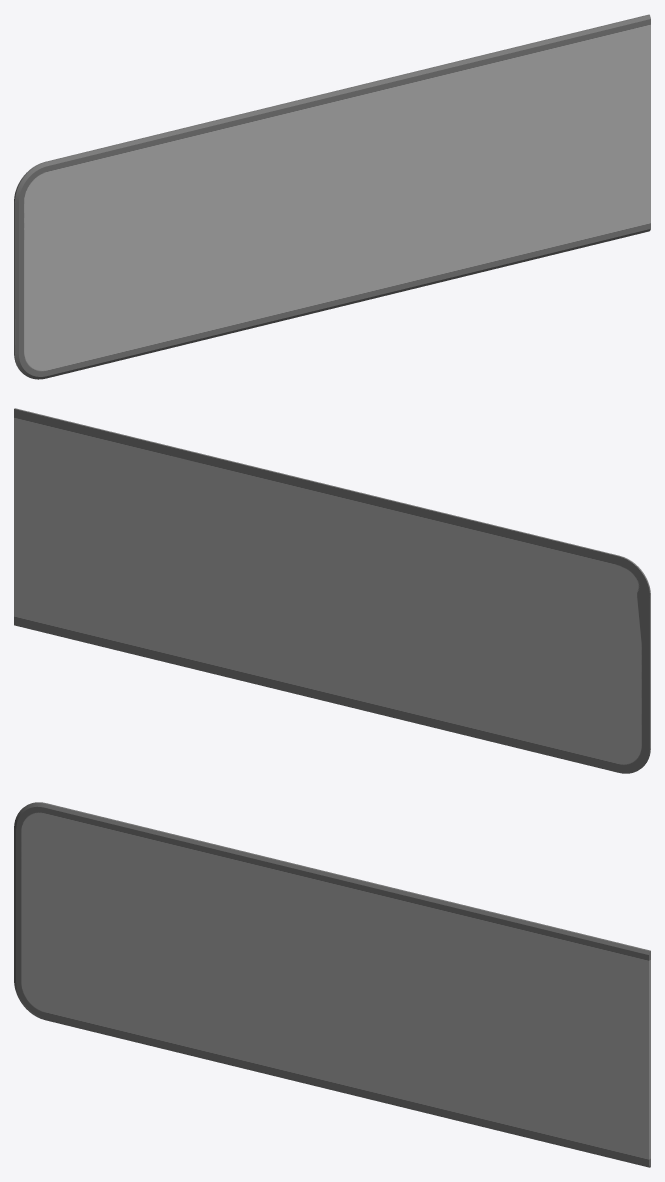
File: mesh_SB_left_endcap_long.fbx
3 renders of one model, top to bottom at view 1: azimuth 30°, elevation 25°; view 2: azimuth 150°, elevation 25°; view 3: azimuth 330°, elevation 25°, orthographic.
Parts seen in each view (by area): view 1: mesh_SB_left_endcap_long; view 2: mesh_SB_left_endcap_long; view 3: mesh_SB_left_endcap_long.
Boxes of the visible parts, left/top/right/bottom form: mesh_SB_left_endcap_long: left=14, top=14, right=650, bottom=379; mesh_SB_left_endcap_long: left=14, top=408, right=650, bottom=773; mesh_SB_left_endcap_long: left=14, top=802, right=650, bottom=1167.
Bounding box in the file's own units: 1230 × 400 × 6.27.
